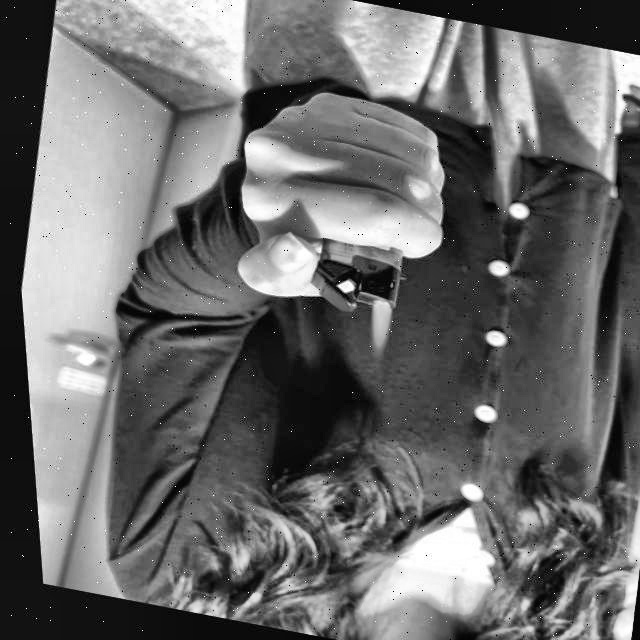Fire: (357, 298, 395, 360)
